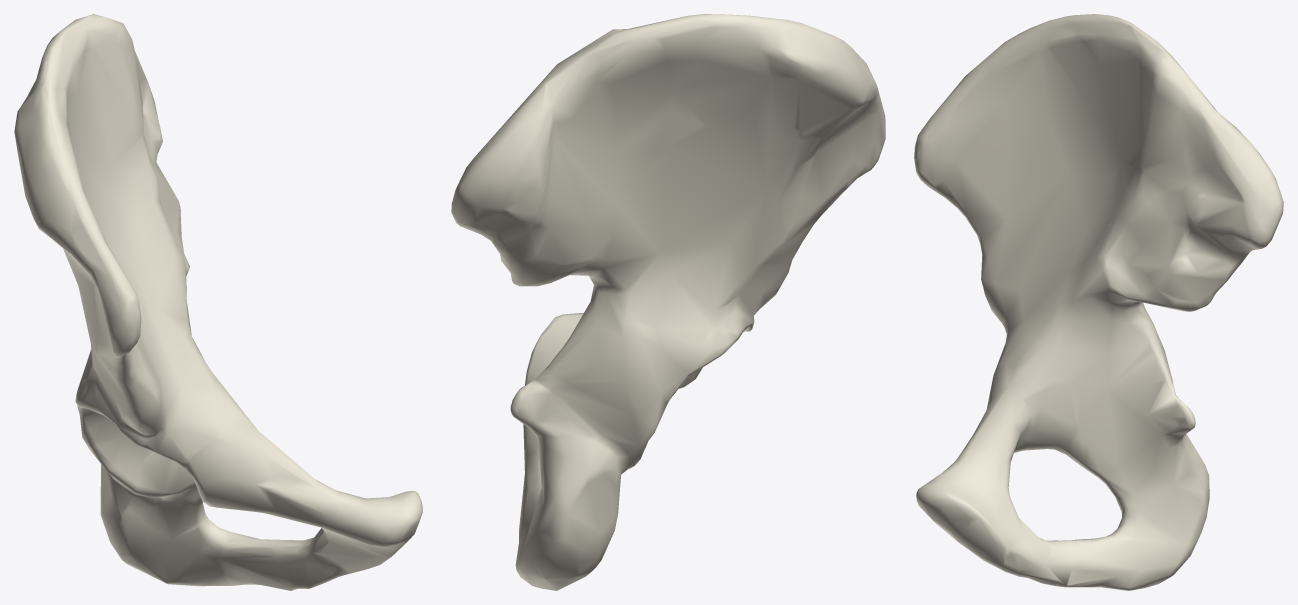
3 views of the same model, side by side, from view 1: azimuth 30°, elevation 25°; view 2: azimuth 150°, elevation 25°; view 3: azimuth 270°, elevation 25° (orthographic). The views are drawn at different scales.
Parts seen in each view (by area): view 1: ZA_43545666d4943509; view 2: ZA_43545666d4943509; view 3: ZA_43545666d4943509.
Boxes of the visible parts, left/top/right/bottom form: ZA_43545666d4943509: left=14, top=14, right=422, bottom=590; ZA_43545666d4943509: left=451, top=14, right=885, bottom=590; ZA_43545666d4943509: left=914, top=14, right=1283, bottom=590.
Bounding box in the file's own units: 0.132 × 0.2146 × 0.1429.
